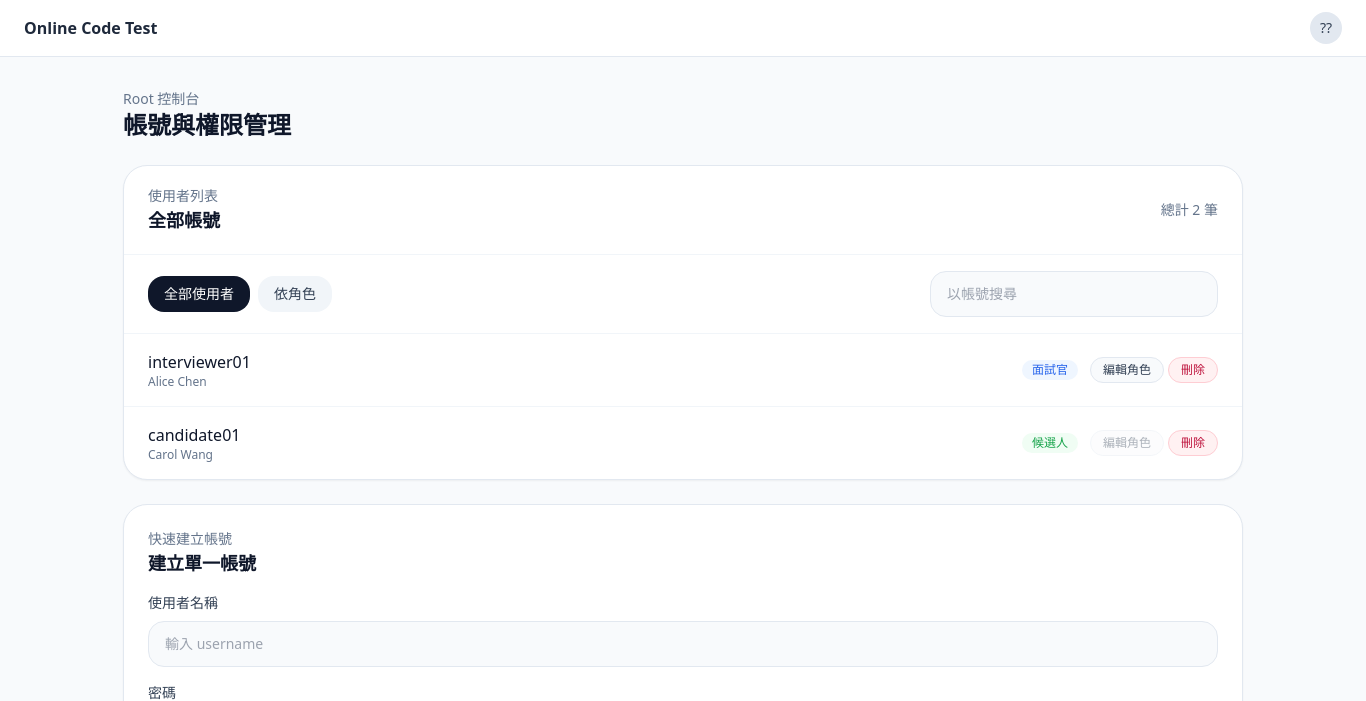
Test: AdminDashboardPage() › removes user from list after successful delete
The image size is (1366, 701).
Check: the text "candidate01" is shown, box [148,423,240,447]
Click the button "刪除" in the row of "候選人". click: (1193, 443)
box: [1168,430,1218,456]
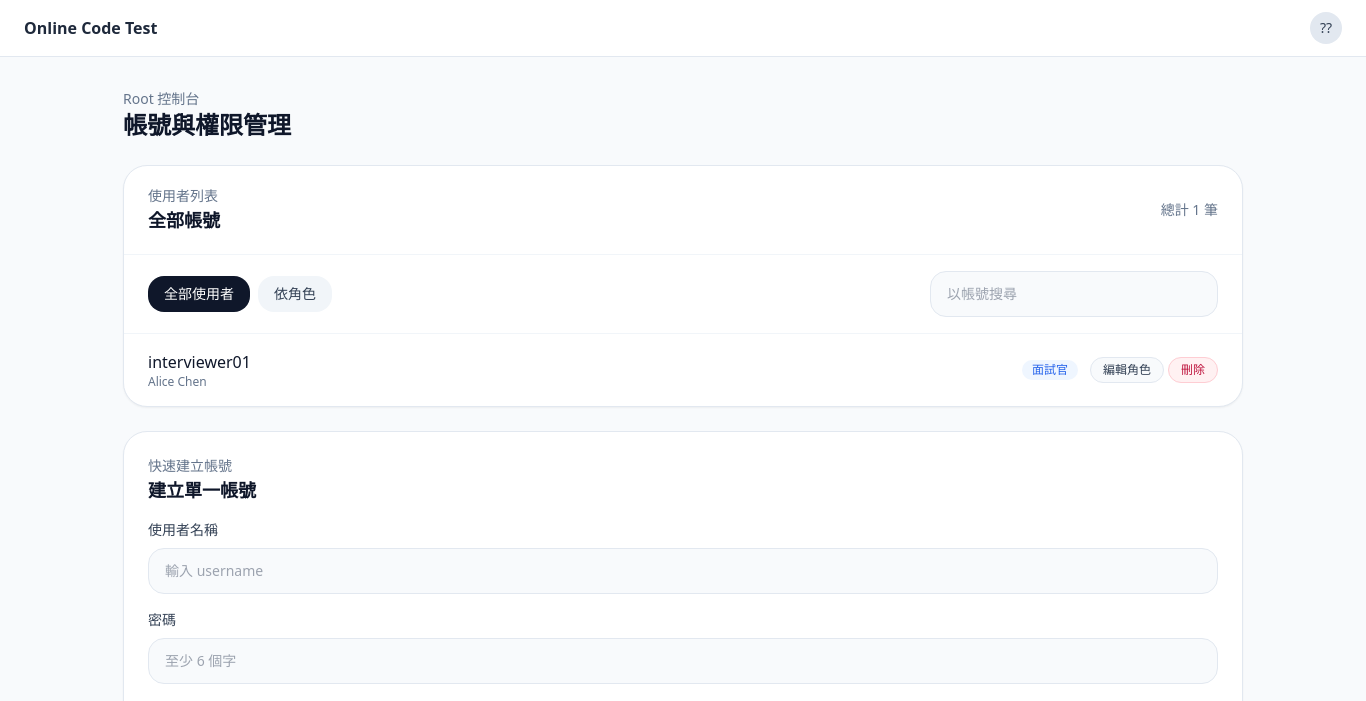
Check: the text "candidate01" is gone
